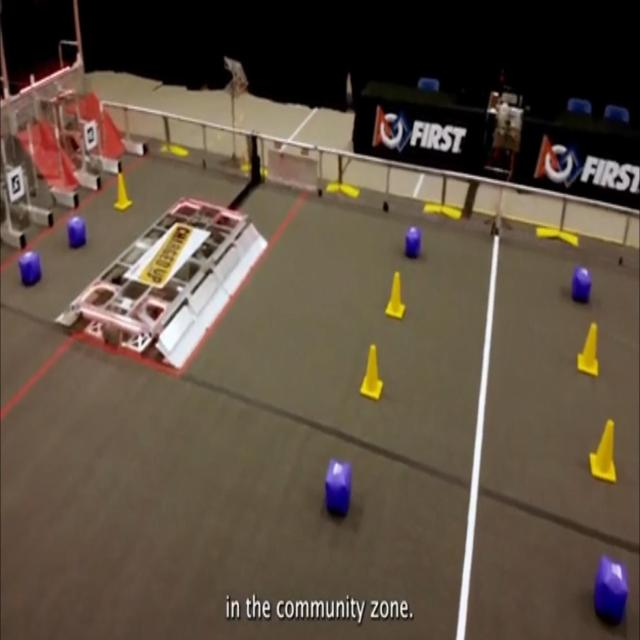frc_cone: (589, 418, 616, 484), (359, 344, 384, 400), (577, 324, 599, 376), (385, 272, 406, 320), (113, 174, 132, 211)
frc_cube: (595, 556, 627, 624), (326, 459, 352, 517), (19, 251, 41, 285), (572, 268, 591, 302), (68, 218, 86, 248), (405, 227, 420, 257)
